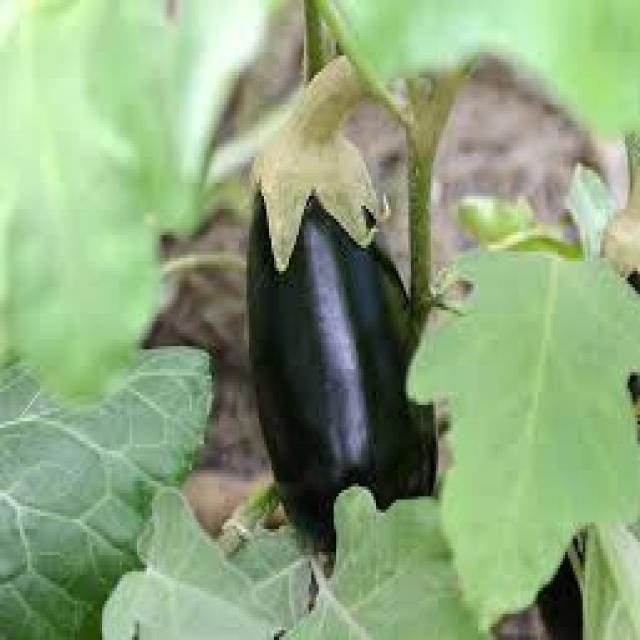Eggplant: (243, 24, 440, 556)
